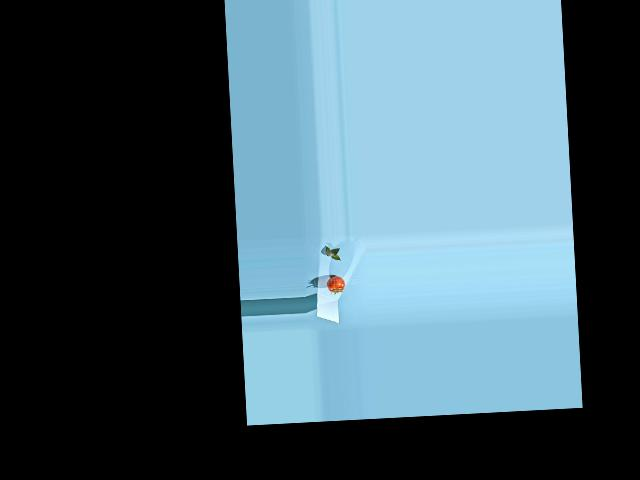tomato: (326, 275, 345, 293)
